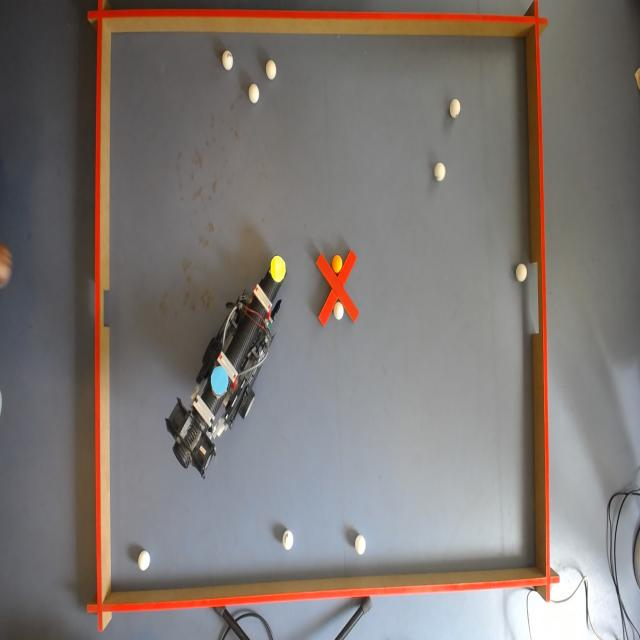orange: (332, 254, 342, 272)
robot: (167, 252, 287, 480)
robot-front: (270, 254, 286, 281)
robot-rear: (210, 362, 229, 397)
white: (222, 50, 235, 71), (284, 530, 296, 552), (265, 59, 278, 79), (137, 552, 151, 570), (435, 162, 448, 180), (515, 264, 528, 282), (249, 85, 261, 104), (450, 98, 462, 117), (356, 537, 368, 556), (332, 302, 343, 322)
